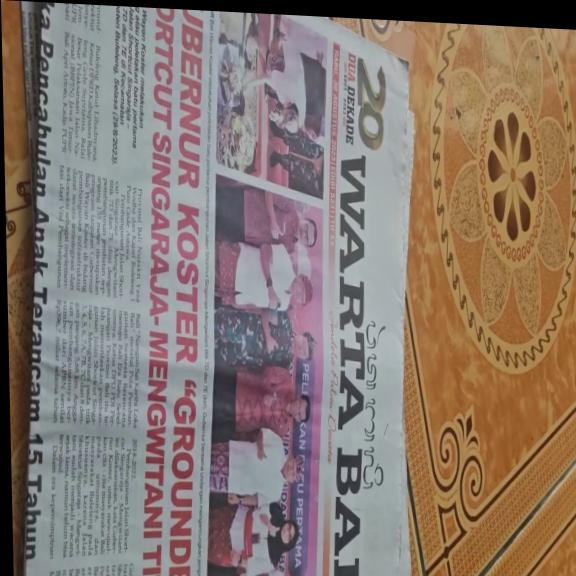Kertas: (41, 5, 407, 576)
